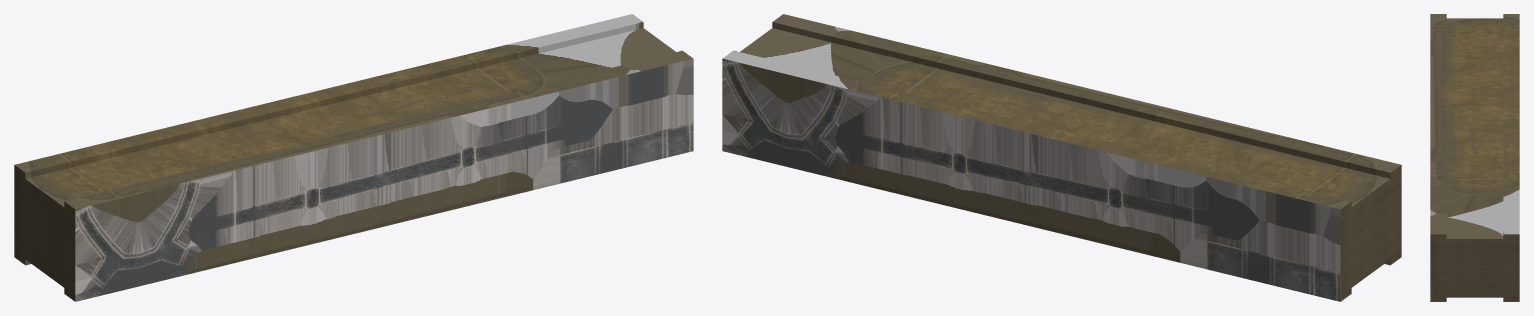
Rendered from Wooden_Column.fbx.
3 renders of one model, left to right at view 1: azimuth 30°, elevation 25°; view 2: azimuth 150°, elevation 25°; view 3: azimuth 270°, elevation 25°, orthographic. The views are drawn at different scales.
Visible parts, largest first — view 1: Box007; view 2: Box007; view 3: Box007.
Part boxes in pixels (x1=…): Box007: x1=14, y1=14, x2=693, y2=301; Box007: x1=722, y1=14, x2=1401, y2=301; Box007: x1=1430, y1=14, x2=1519, y2=301.
Size of the model in its own units: 343 by 49.09 by 58.58.
